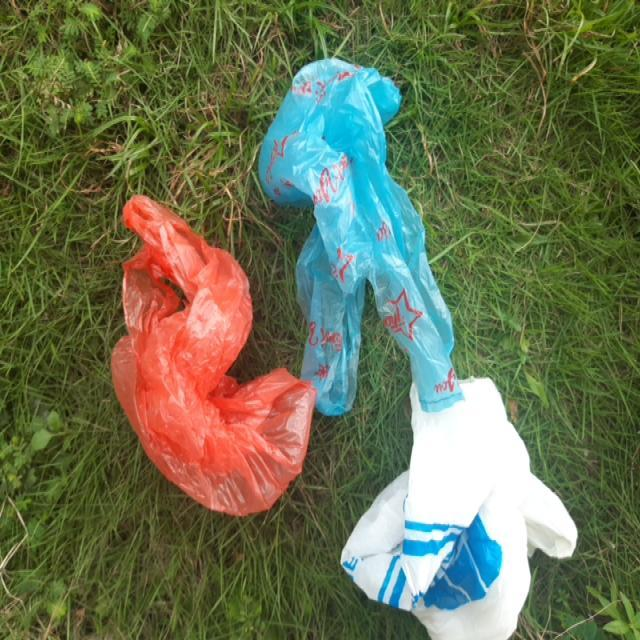Single-layer Plastic: (259, 59, 462, 414), (112, 196, 315, 516), (341, 379, 576, 640)
